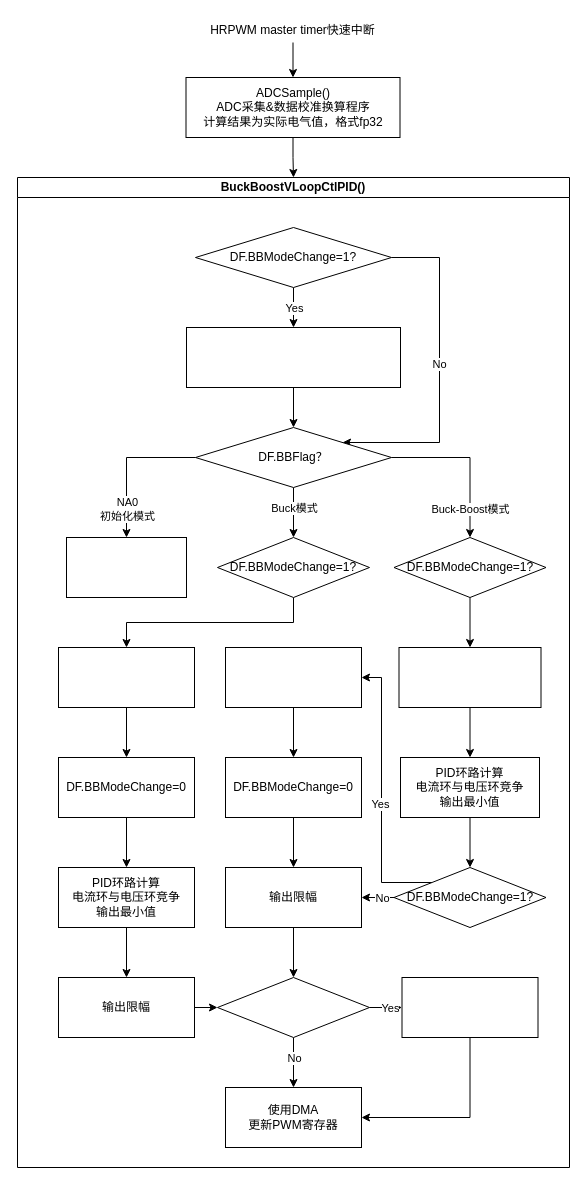
Some shapes in this 587 by 1185 pixel diagram are drawn without their labels. Here are the shapes that lost their labels. From the top down, the centre of each, then its label:
At point 293,357: "所有PID计算环路计算变量清零".
At point 126,567: "所有PID计算环路 计算变量清零".
At point 126,677: "初始化PID计算环路 PID参数为Buck模式 设定一些固定占空比".
At point 293,677: "输出赋值一个初始状态".
At point 469,677: "初始化PID计算环路 PID参数为 Buck-Boost模式 设定一些固定占空比".
At point 293,1007: "DF.PWMENFlag=0?".
At point 469,1007: "Buck占空比最小 Boost占空比最小 相当于关闭DCDC".
